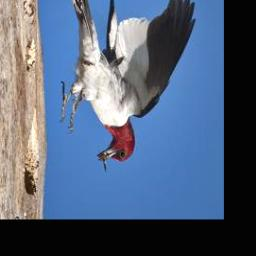Woodpecker: (60, 0, 196, 168)
